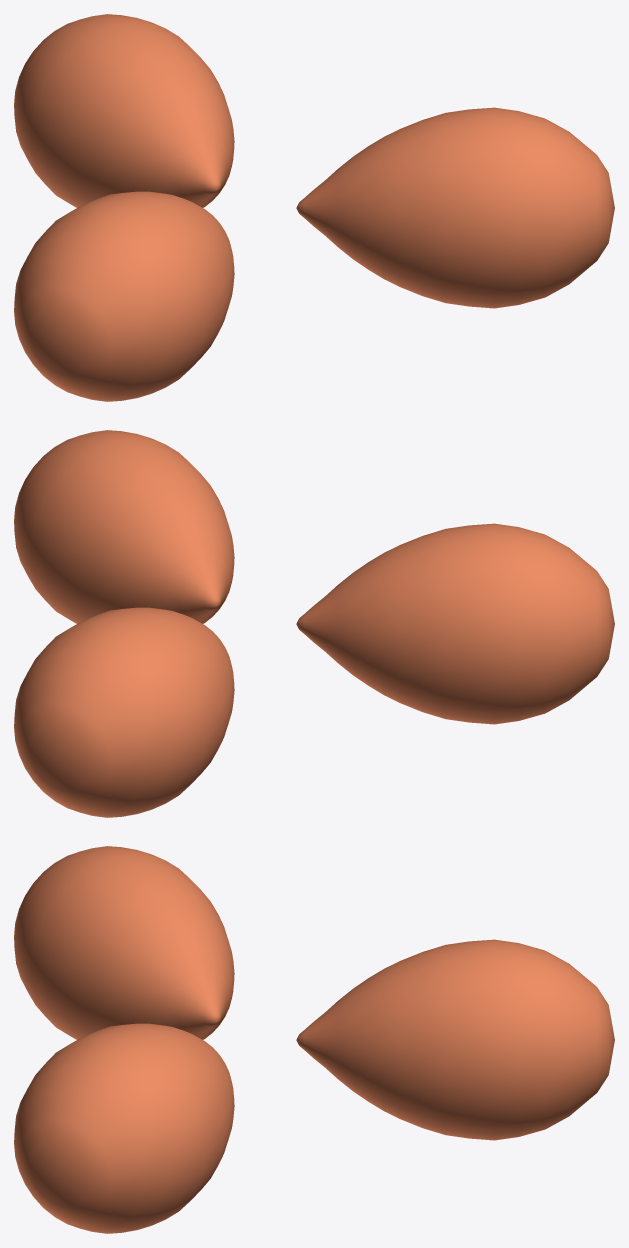
The picture shows the model from 3 angles, top to bottom: view 1: azimuth 30°, elevation 25°; view 2: azimuth 150°, elevation 25°; view 3: azimuth 270°, elevation 25°; orthographic projection.
Visible parts, largest first — view 1: orbital 2, orbital 3, orbital 1; view 2: orbital 3, orbital 1, orbital 2; view 3: orbital 1, orbital 2, orbital 3.
Part boxes in pixels (x1=…): orbital 2: x1=296, y1=107, x2=614, y2=308; orbital 3: x1=14, y1=191, x2=234, y2=401; orbital 1: x1=14, y1=14, x2=234, y2=207; orbital 3: x1=296, y1=523, x2=614, y2=724; orbital 1: x1=14, y1=607, x2=234, y2=817; orbital 2: x1=14, y1=430, x2=234, y2=623; orbital 1: x1=296, y1=939, x2=614, y2=1140; orbital 2: x1=14, y1=1023, x2=234, y2=1233; orbital 3: x1=14, y1=846, x2=234, y2=1039.
Size of the model in its own units: 2.66 by 0.7999 by 2.39.
